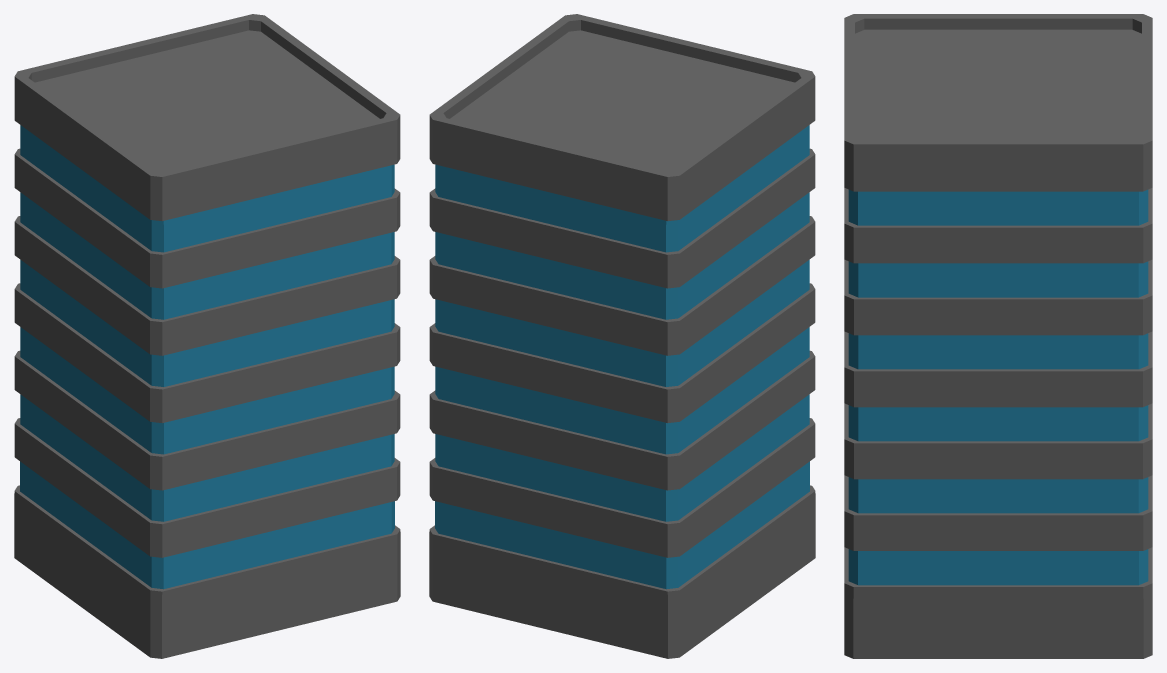
File: biurowiec1.fbx
The picture shows the model from 3 angles, left to right: view 1: azimuth 30°, elevation 25°; view 2: azimuth 150°, elevation 25°; view 3: azimuth 270°, elevation 25°; orthographic projection. The views are drawn at different scales.
Visible parts, largest first — view 1: biurowiec1; view 2: biurowiec1; view 3: biurowiec1.
Part boxes in pixels (x1,y1,x2,y2): biurowiec1: (14, 14, 400, 658); biurowiec1: (429, 14, 815, 658); biurowiec1: (844, 14, 1152, 658).
Bounding box in the file's own units: 500 × 920 × 500.
